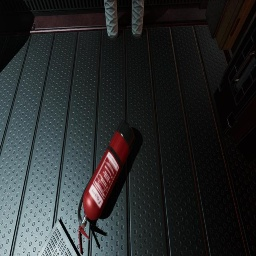FireExtinguisher ]: (77, 120, 135, 255)
